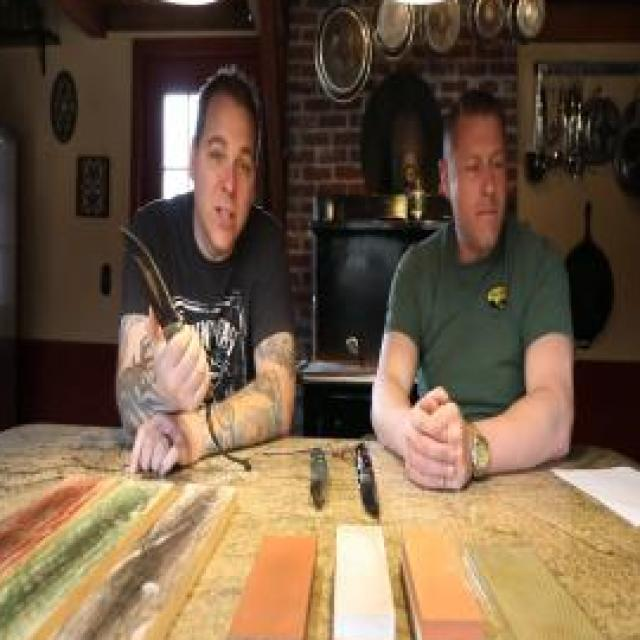knife: (114, 208, 212, 377)
